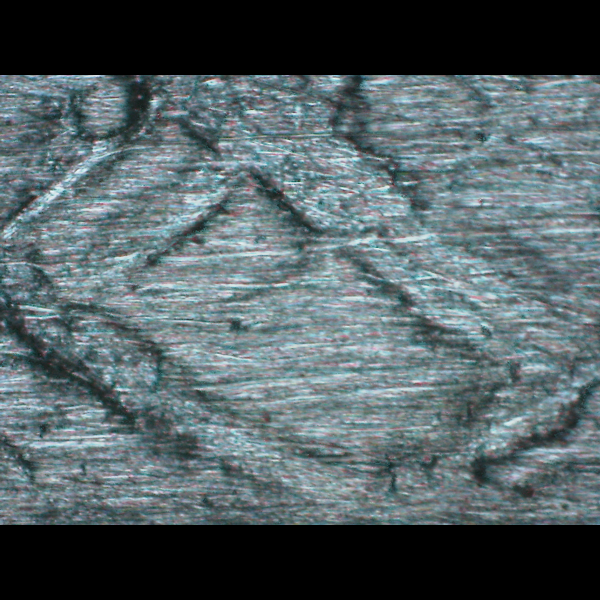d: (0, 80, 592, 483)
